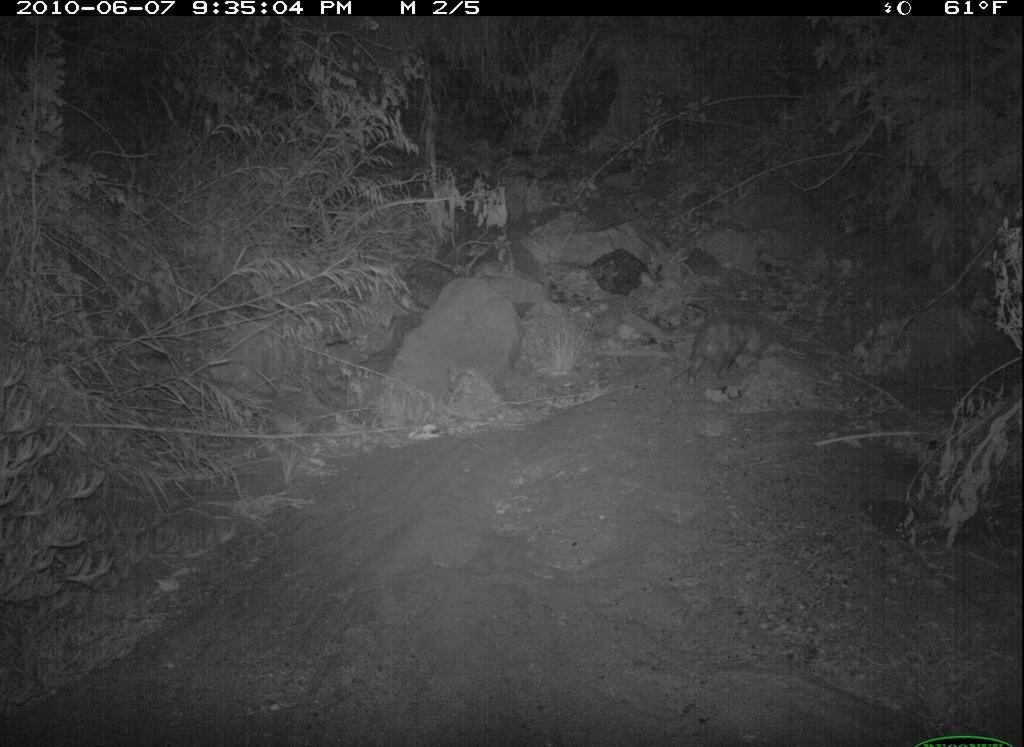opossum: (683, 314, 767, 383)
